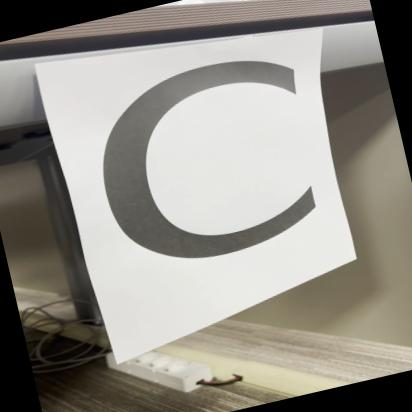seat: (55, 24, 354, 322)
